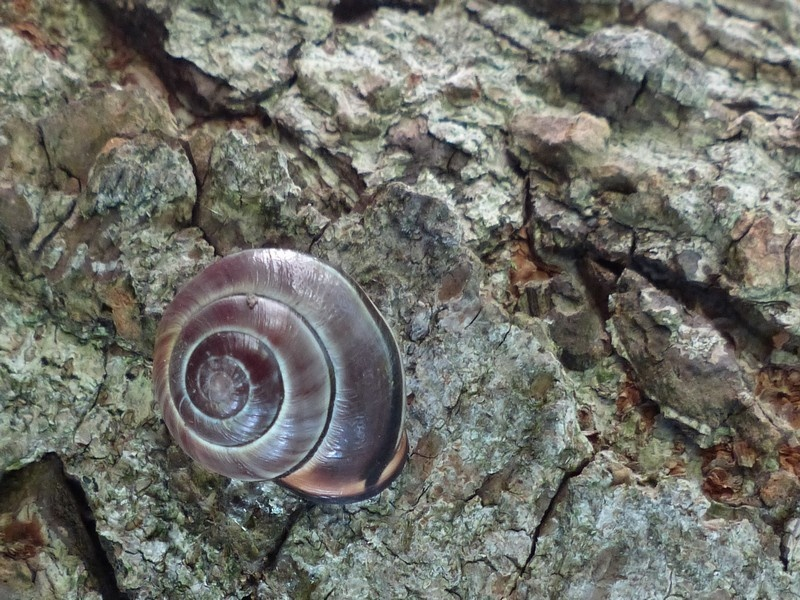snail_B_M: (145, 244, 418, 510)
